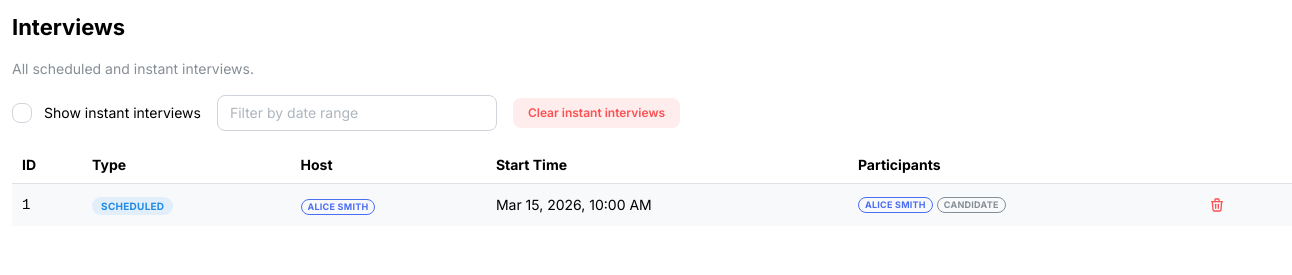
Test: interviewsPage › displays interviews after loading
The image size is (1292, 275).
Expected: the 1st text "Alice Smith" is shown, [308,200,368,214]
// Bob's interview is instant, toggle the checkbox to show it
Click the checkbox labelled "Show instant interviews" at (22, 113), box [12,103,32,123]
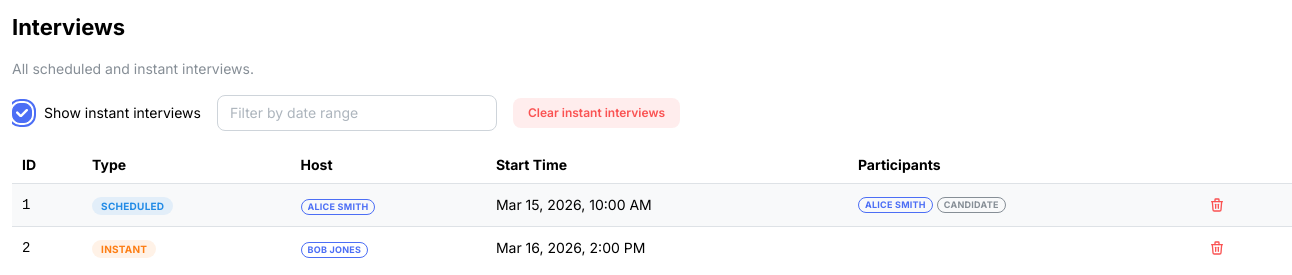
Expected: the text "Bob Jones" is shown, [308,243,361,257]
